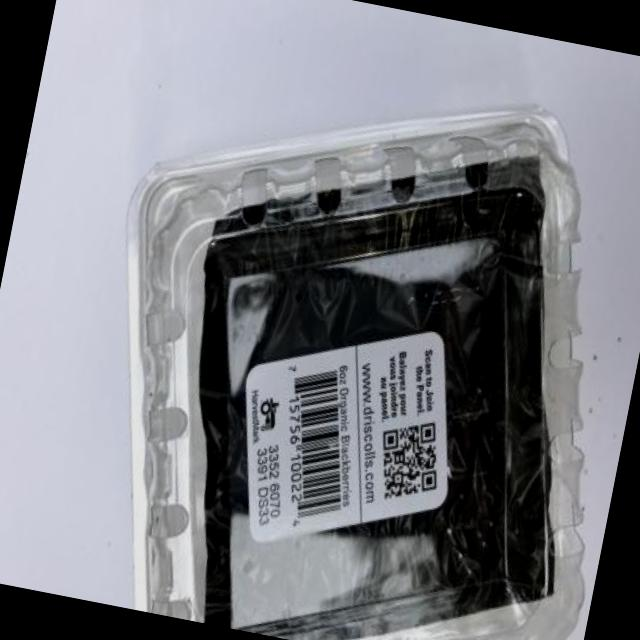Recycle: (55, 33, 640, 640)
